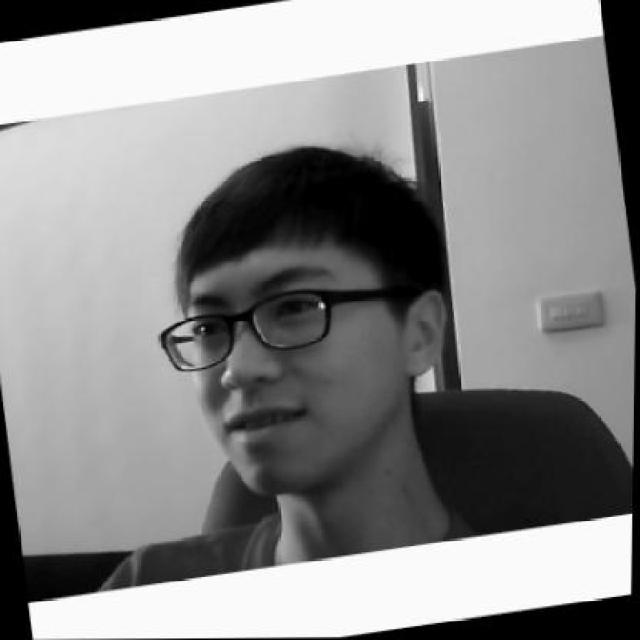attentif: (132, 125, 468, 504)
